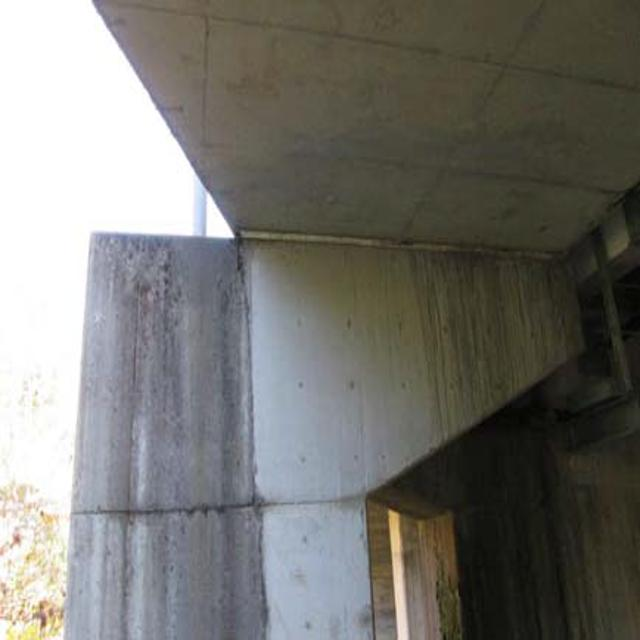leakage: (74, 218, 267, 636), (406, 243, 588, 408)
